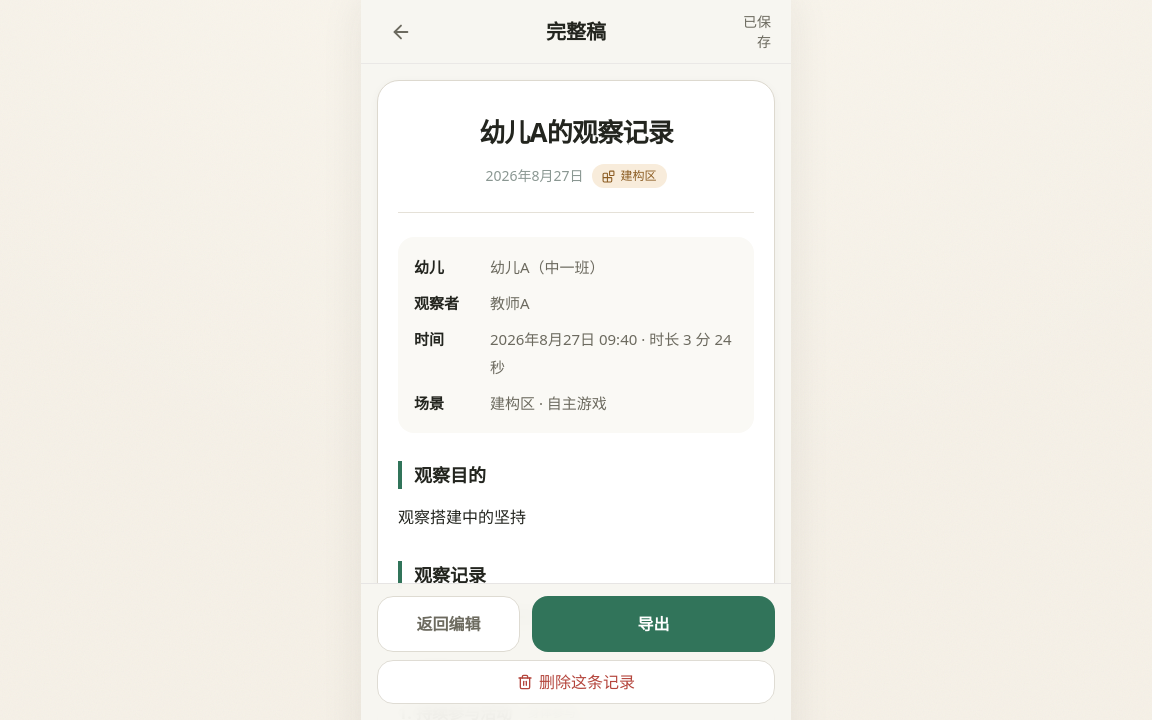
ObservationDetailPage › keeps the export sheet open and explains a failed export
Click the button "导出": (654, 624) x1=532 y1=596 x2=775 y2=652
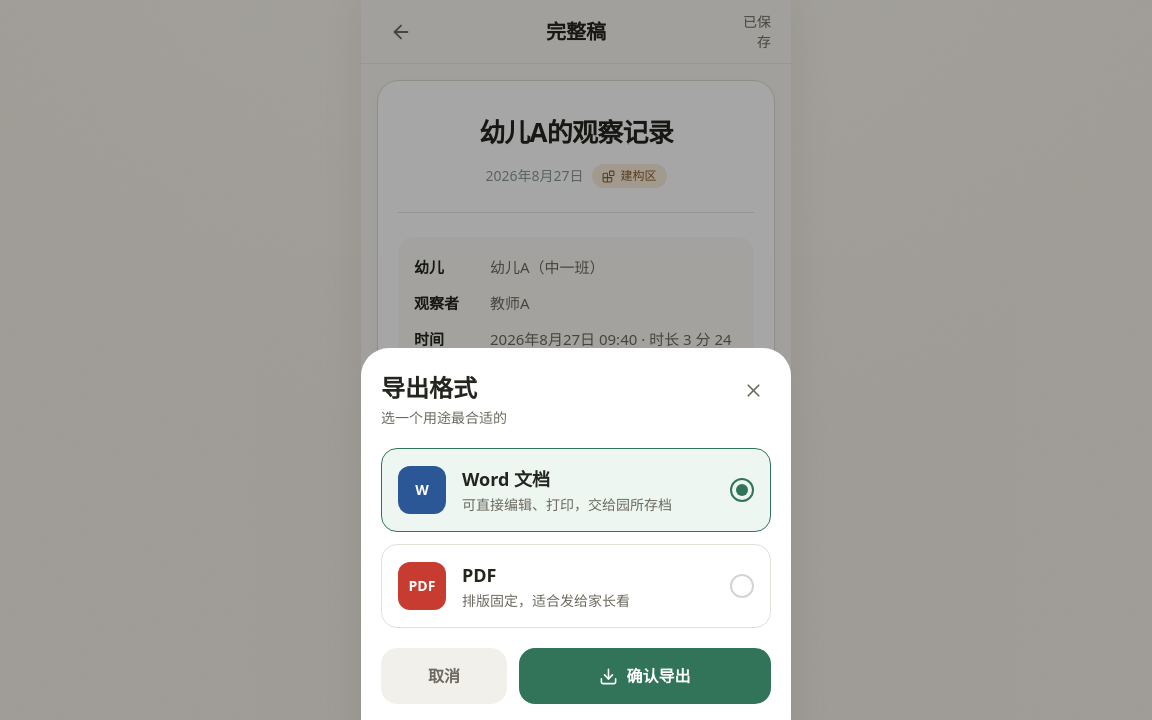
Click the button "确认导出": (645, 676) x1=519 y1=648 x2=771 y2=704
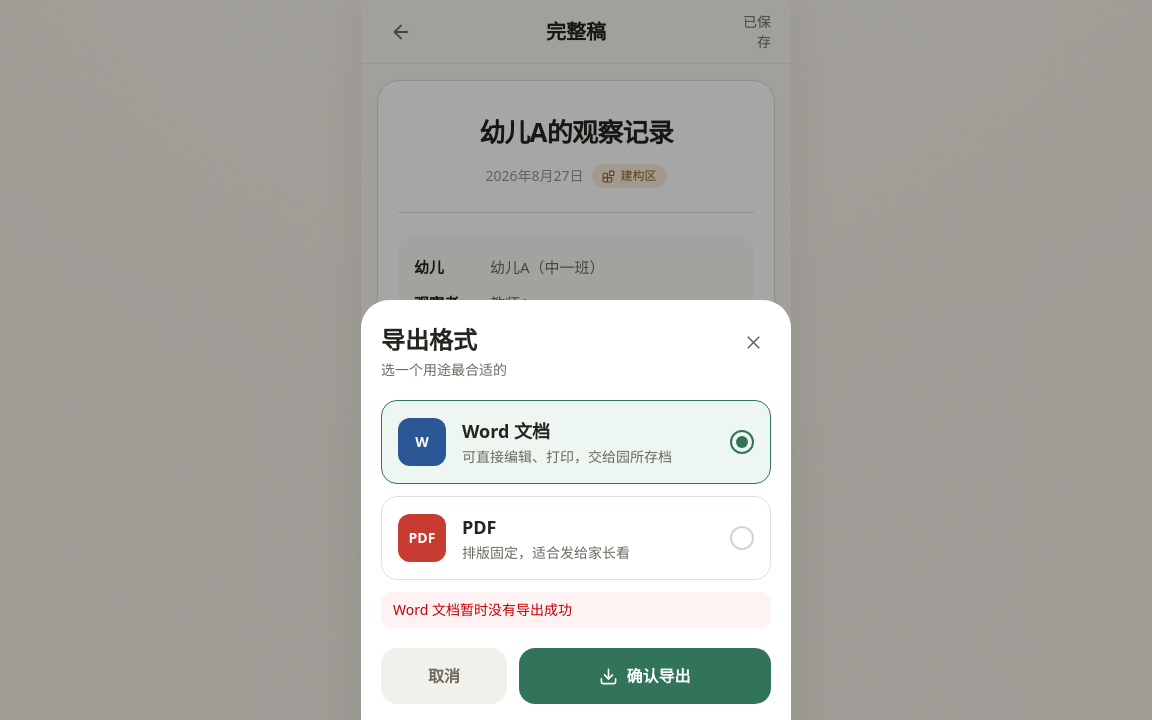
Result: the dialog "导出格式" is shown
Result: the message reads "Word 文档暂时没有导出成功" at x1=393 y1=600 x2=572 y2=619
